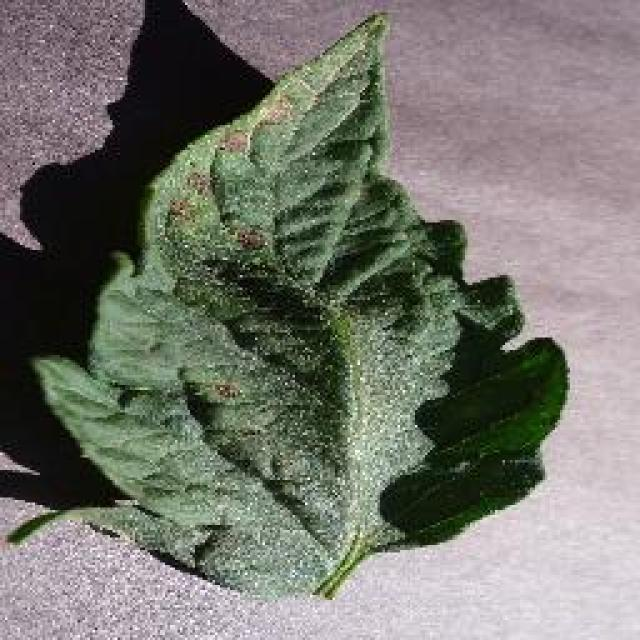Tomato___Early_blight: (7, 9, 571, 604)
